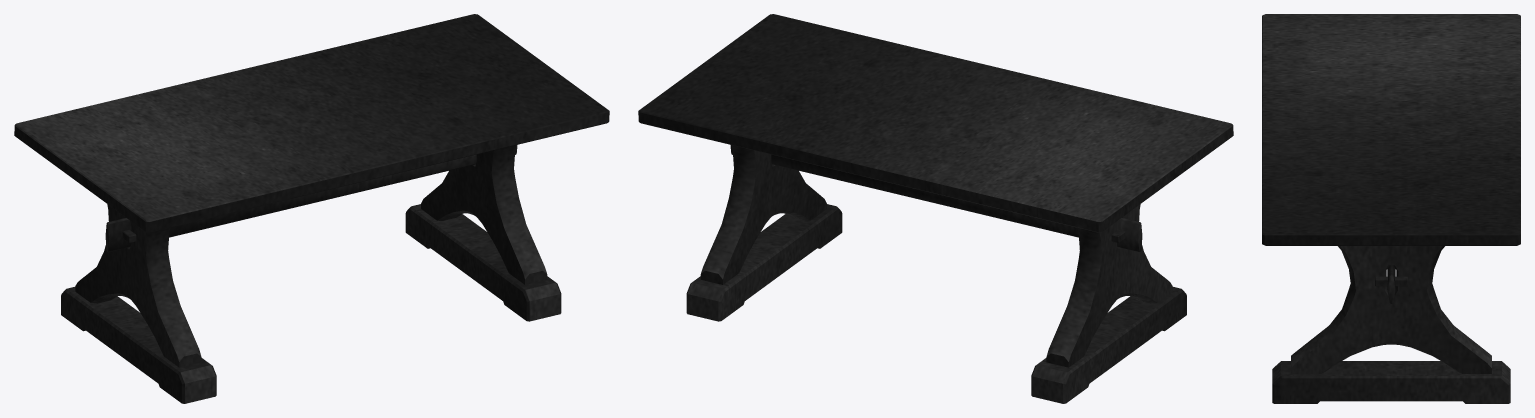
The picture shows the model from 3 angles, left to right: view 1: azimuth 30°, elevation 25°; view 2: azimuth 150°, elevation 25°; view 3: azimuth 270°, elevation 25°; orthographic projection. The views are drawn at different scales.
Visible parts, largest first — view 1: Desk_LP; view 2: Desk_LP; view 3: Desk_LP.
Boxes of the visible parts, <box> form: Desk_LP: <box>14,14,609,403</box>; Desk_LP: <box>638,14,1233,403</box>; Desk_LP: <box>1262,14,1520,403</box>.
Bounding box in the file's own units: 200 × 81.84 × 100.
